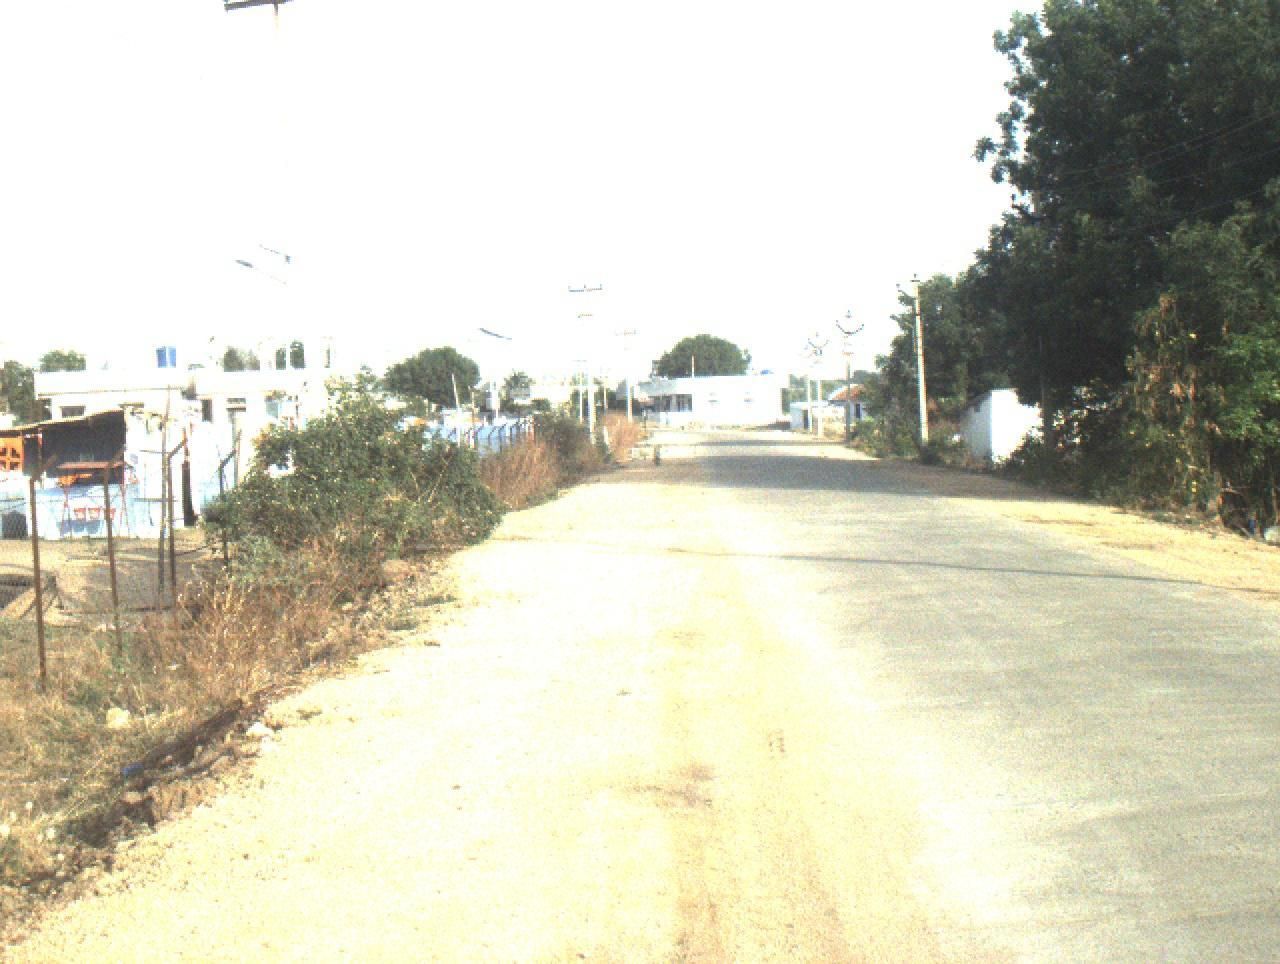off: (5, 0, 1215, 889)
